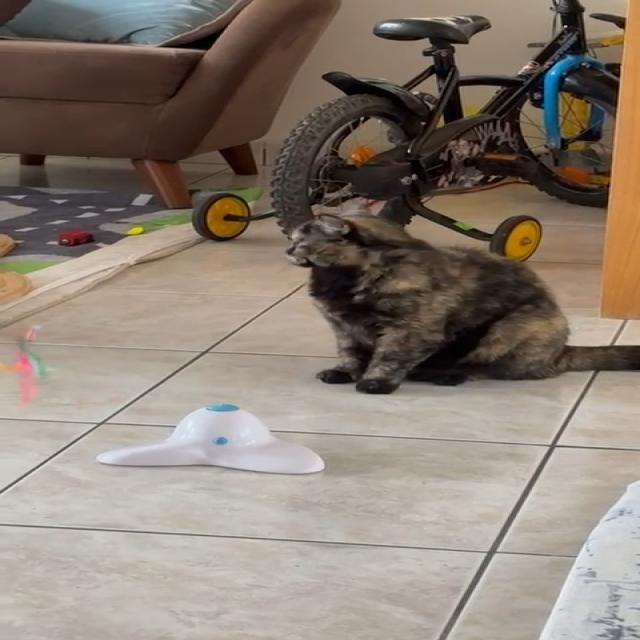authorized: (281, 211, 639, 394)
